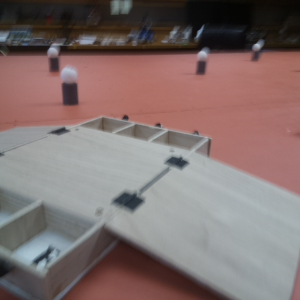obstacle: (62, 67, 82, 107), (194, 48, 212, 78), (42, 46, 60, 76), (249, 42, 265, 65)
side: (1, 187, 106, 299), (77, 109, 209, 150)
slope: (112, 152, 300, 298), (1, 118, 67, 154)
